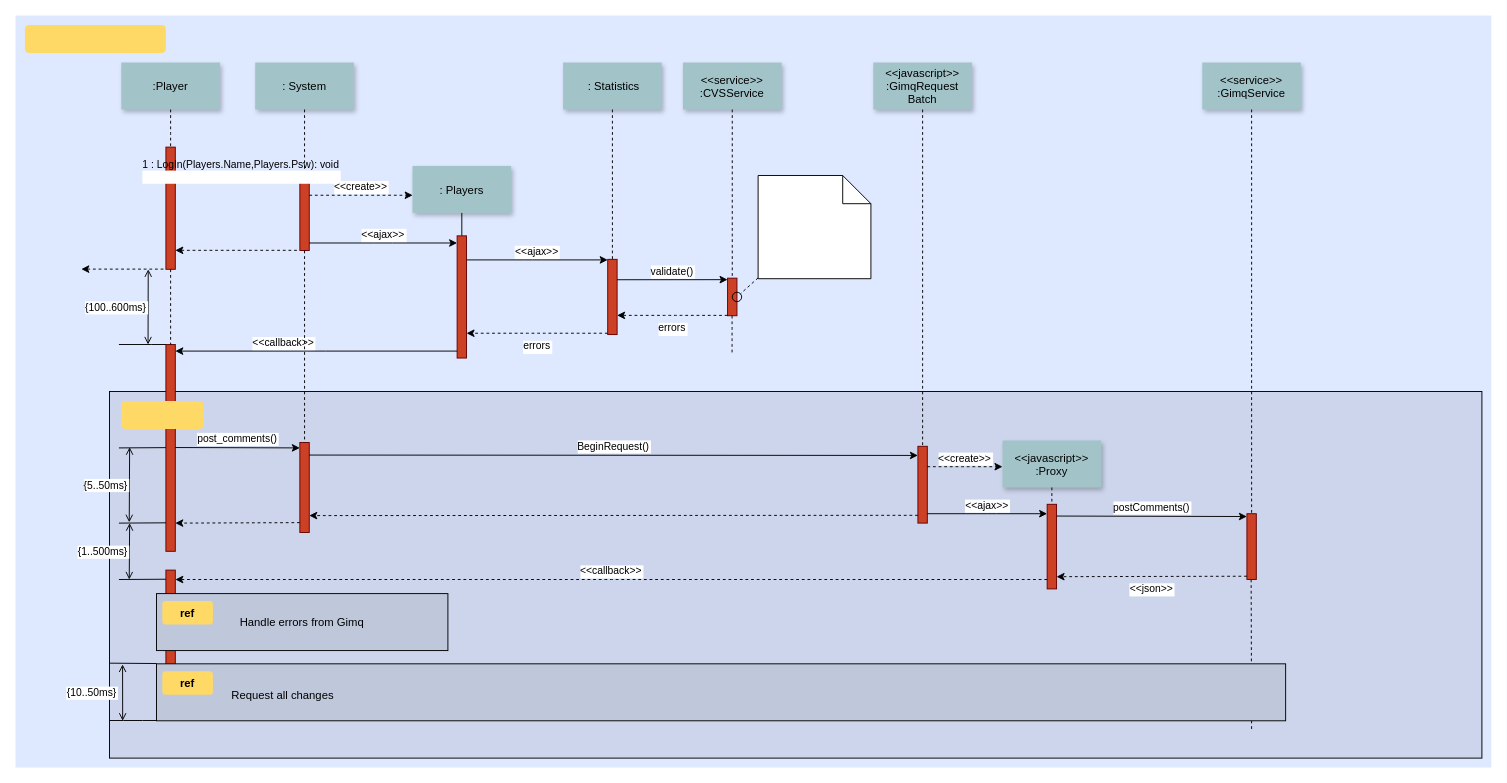
Some shapes in this 1507 by 783 pixel diagram are drawn without their labels. The shapes that lost their labels are listed below. From the top down, each one's centre as x and y in pixels, then its label:
At (94,38): "rt submit_changes".
At (814,227): "- user validation - password check".
At (162,414): "opt".
